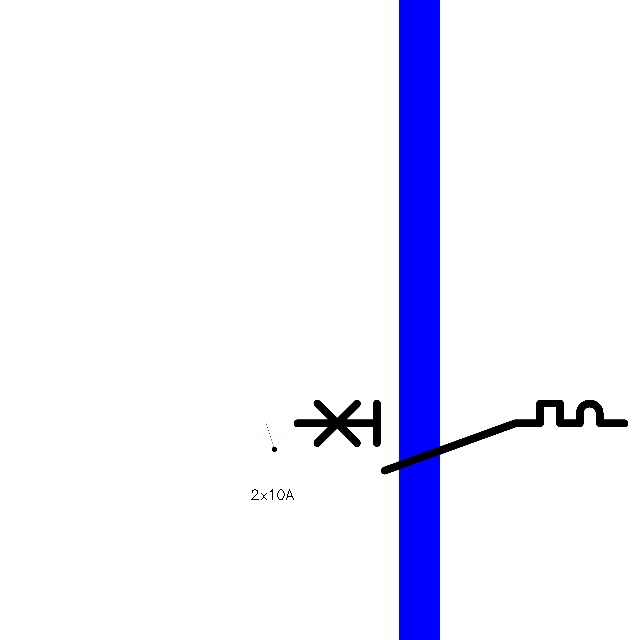interruptor_termomagnetico: (288, 395, 632, 479)
